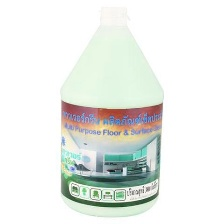cleaning_solution: (57, 4, 165, 220)
